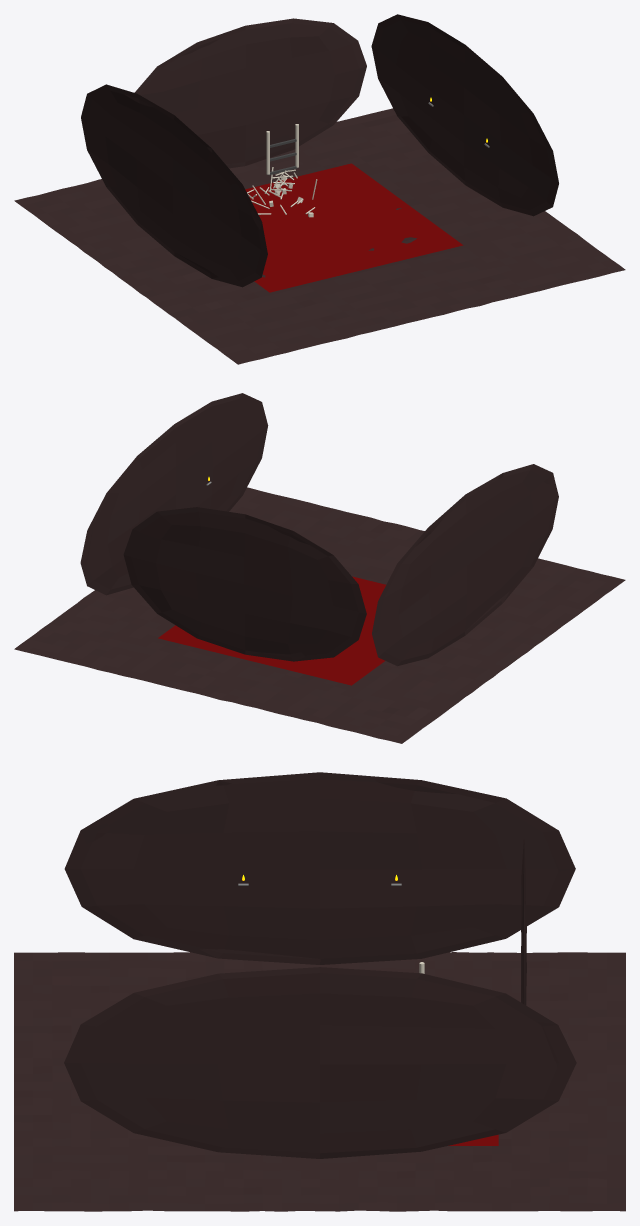
File: room.glb
3 renders of one model, top to bottom at view 1: azimuth 30°, elevation 25°; view 2: azimuth 150°, elevation 25°; view 3: azimuth 270°, elevation 25°, orthographic. The views are drawn at different scales.
Parts seen in each view (by area): view 1: Floor, WallBack, WallLeft, WallRight, BloodPool; view 2: Floor, WallBack, WallLeft, WallRight, BloodPool; view 3: Floor, WallRight, WallLeft, WallBack.
Part boxes in pixels (x1,y1,x2,y2): Floor: (14,108,625,364); WallBack: (134,18,366,168); WallLeft: (81,84,267,287); WallRight: (371,14,558,216); BloodPool: (245,163,463,292); Floor: (14,487,625,743); WallBack: (123,507,366,661); WallLeft: (372,464,558,666); WallRight: (80,393,268,595); BloodPool: (158,576,385,685); Floor: (14,952,625,1211); WallRight: (64,967,576,1158); WallLeft: (64,772,575,964); WallBack: (521,839,526,1005).
Size of the model in its own units: 24 by 9.25 by 24.
